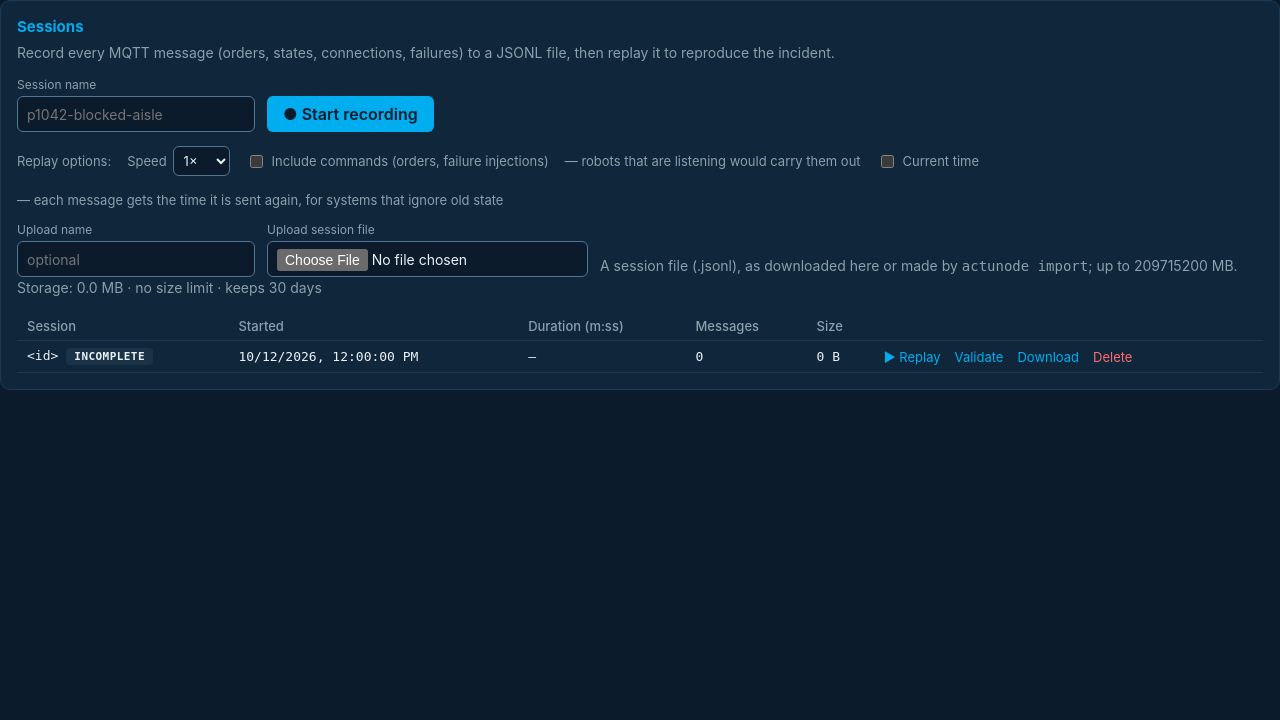
Test case: backend contract fixtures through the Sessions panel › renders the validation report: counts, rule badges, truncation note, numeric t
Step 1. Click the button "Validate" → point(979, 356), box [955, 348, 1004, 364]
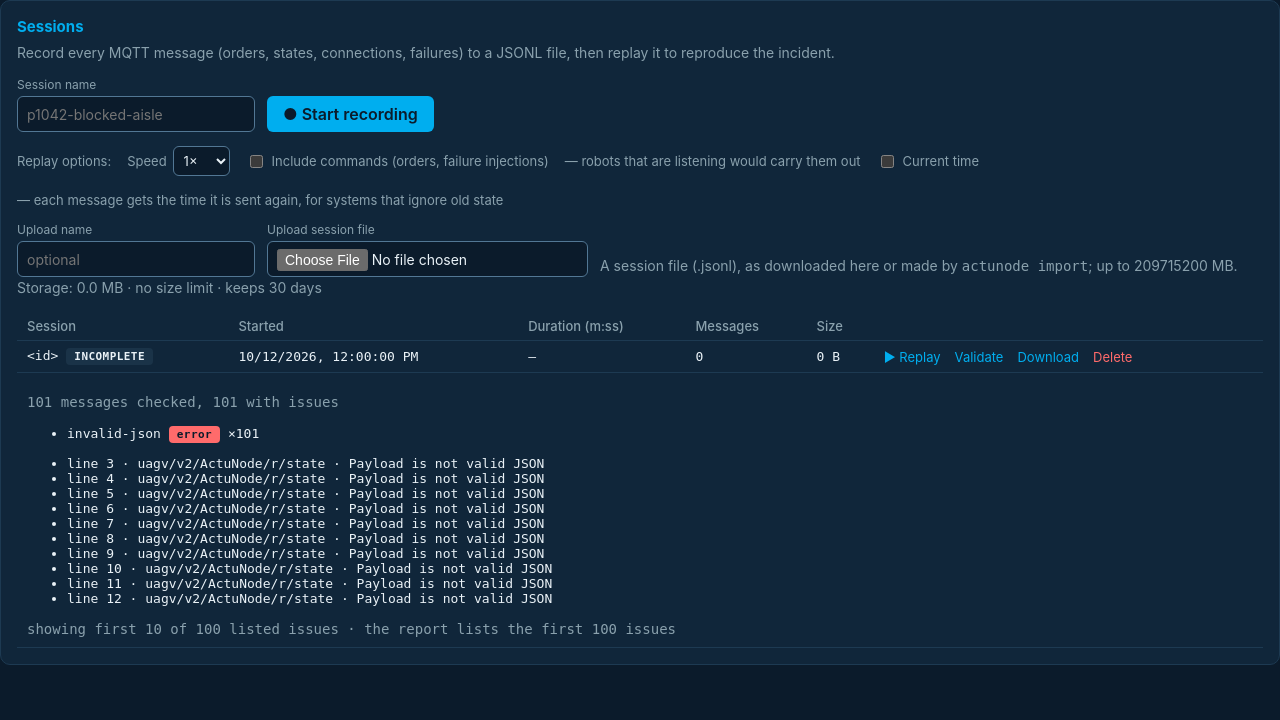
Check: the text "invalid-json" is shown, box [67, 426, 161, 441]
Check: the text "the report lists the first 100 issues" is shown, box [27, 621, 676, 637]
